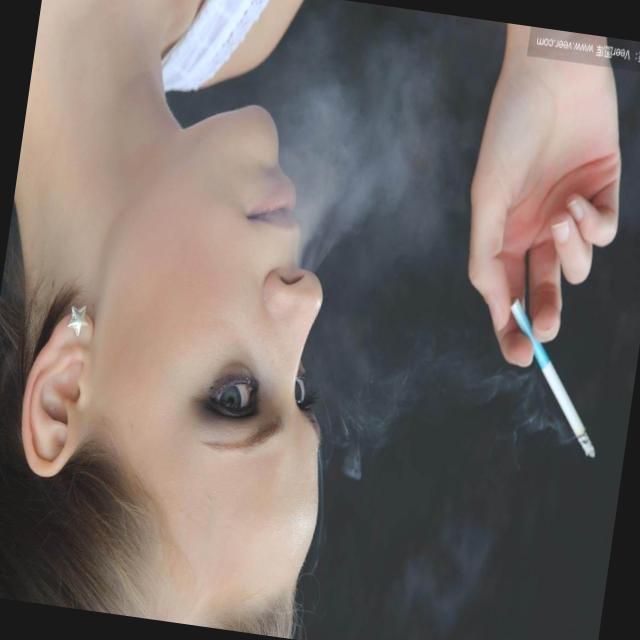smoke: (490, 294, 618, 464)
